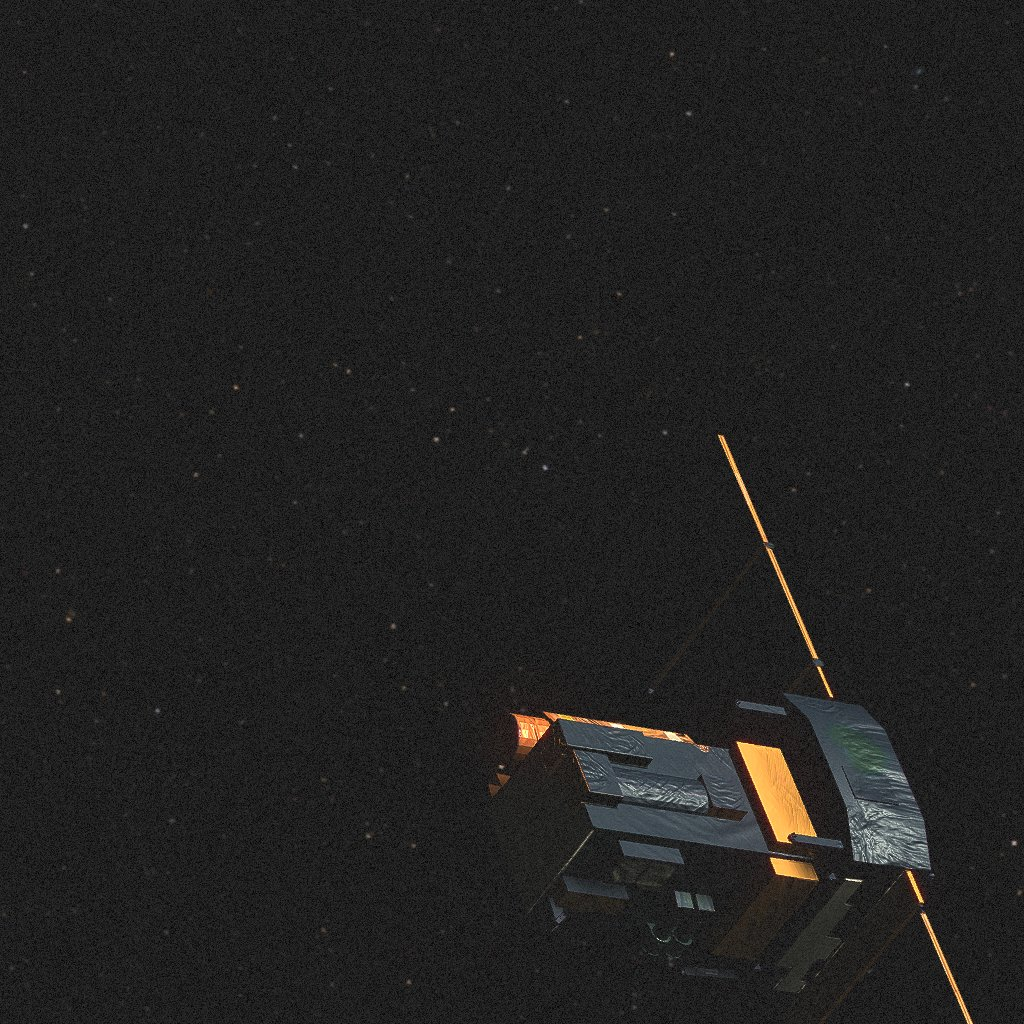soho: (475, 427, 945, 1009)
